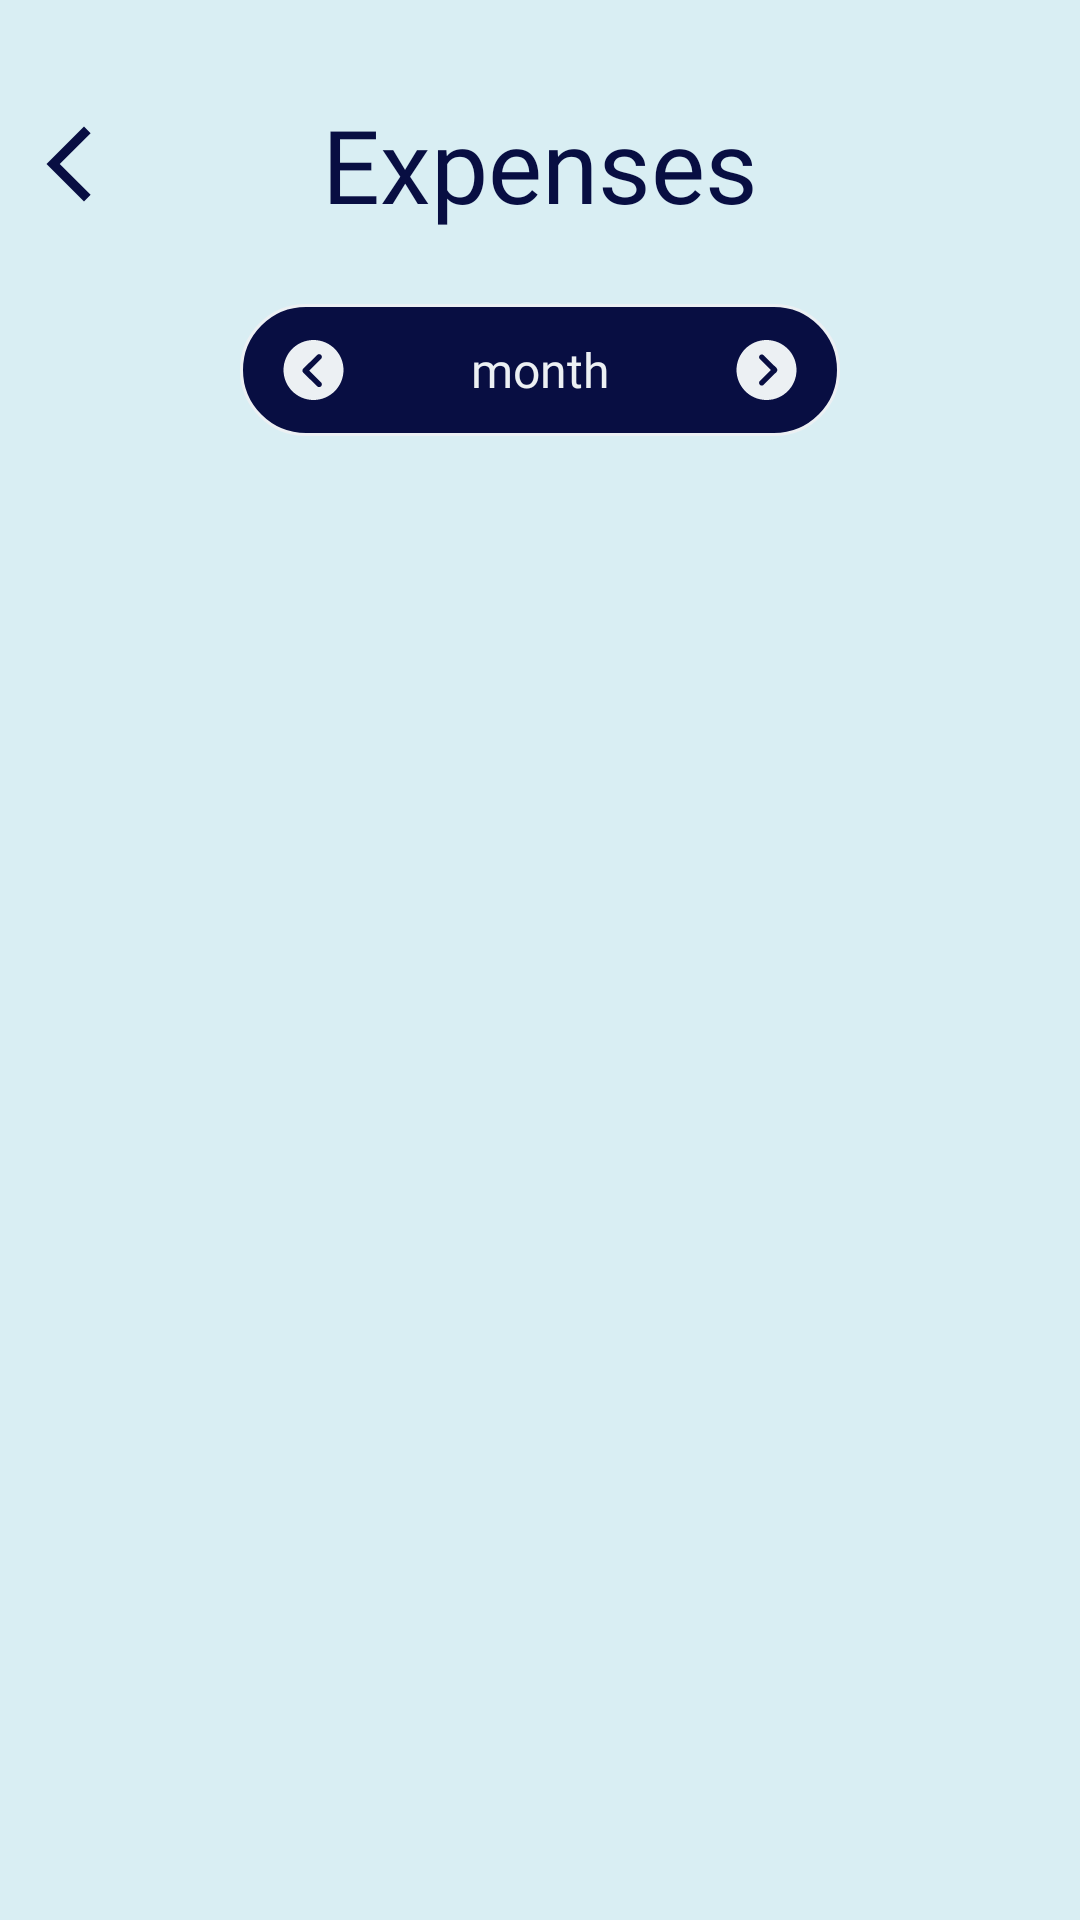

Named icons in this screenshot (1080*1920) and their centers, [x,y]:
back: [68,164]
